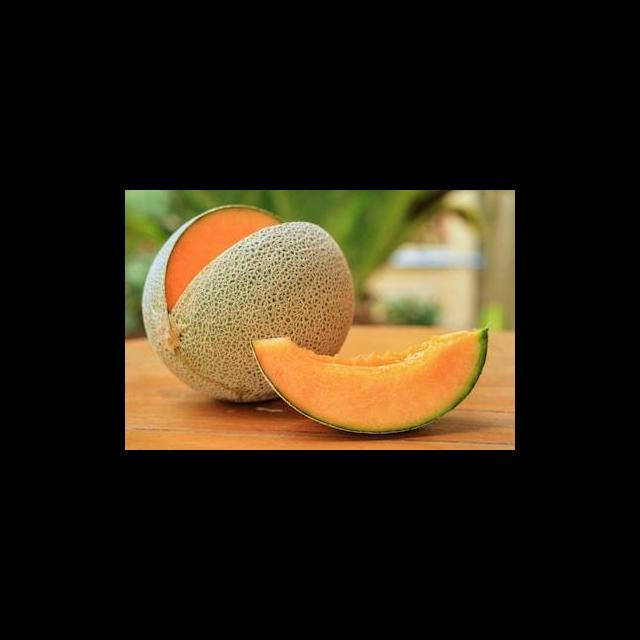Hami Melon: (141, 204, 355, 400), (252, 328, 489, 435)
